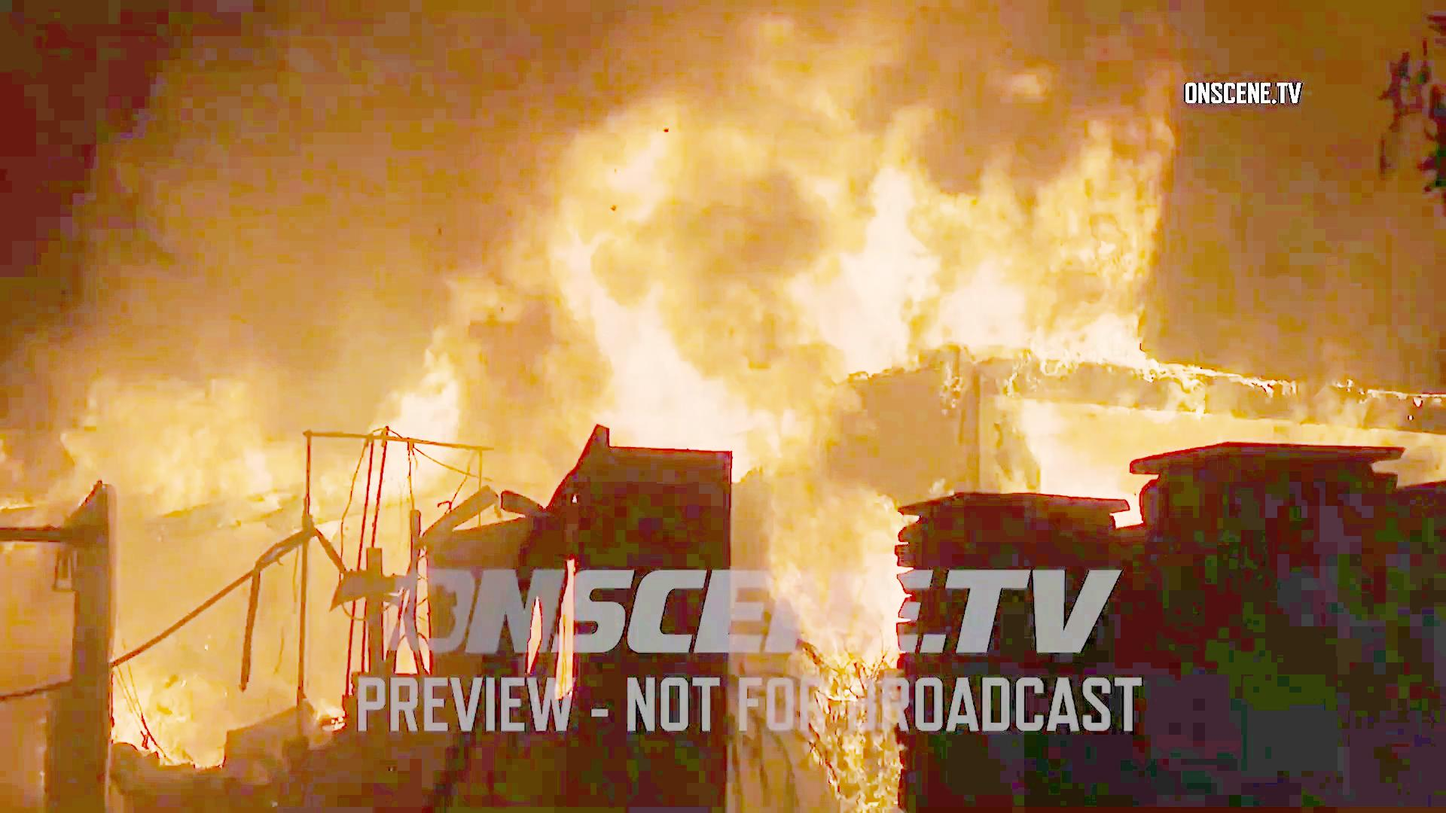fire: (464, 15, 1169, 443)
